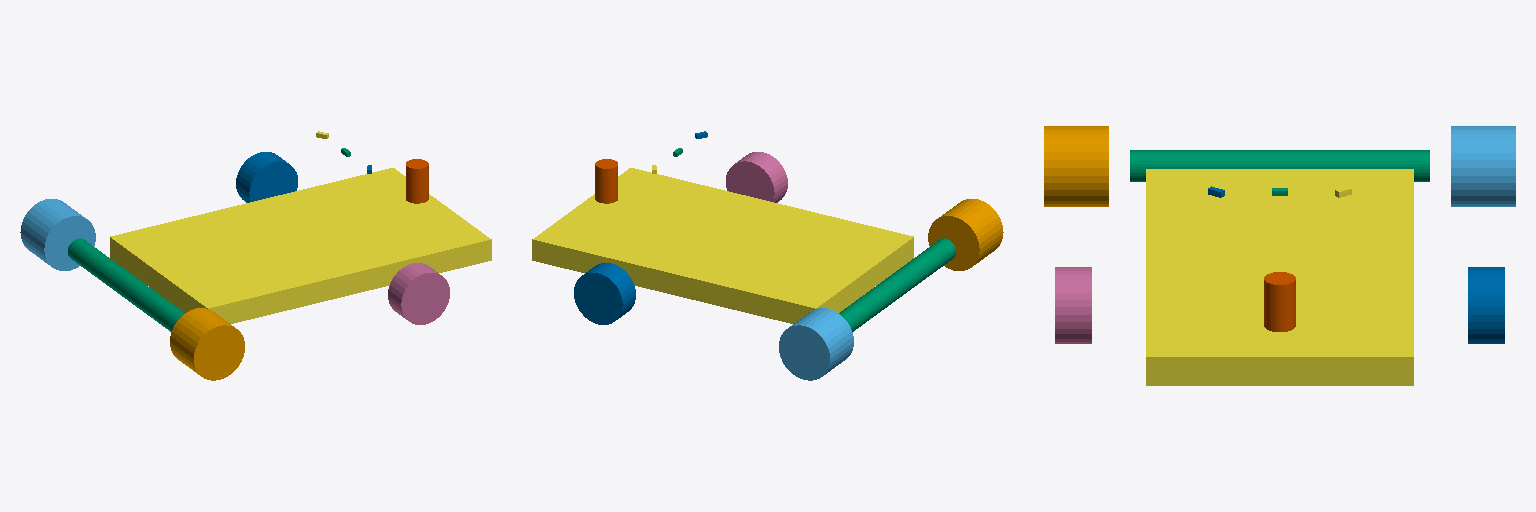
URDF robot description (phoenix):
<?xml version="1.0"?>
<robot name="phoenix">

<!-- Base footprint -->
    <link name="base_footprint"/>
    
<!--Rear Axle Link and Joint-->
    <link name="rear_axle">
        <visual>
            <origin rpy="0 0 0" xyz="0 0 0" />
            <geometry>
                <box size="0.001 0.001 0.001"/>
            </geometry>
        </visual>
        <inertial>
            <origin xyz="0 0 0" rpy="0 0 0"/>
            <mass value="0.001"/>
            <inertia
                ixx="7.6E-07" ixy="0.0" ixz="0.0"
                iyy="7.6E-07" iyz="0.0"
                izz="0.000001"/>
        </inertial>
    </link>

    <joint name="base_footprint_to_rear_axle" type="fixed">
        <origin rpy="0 0 0" xyz="0 0 0.127"/>
        <parent link="base_footprint"/>
        <child link="rear_axle"/>
    </joint>

    <link name="physical_rear_axle">
        <visual>
            <origin rpy="0 0 0" xyz="0 0 0" />
            <geometry>
                <cylinder length="0.9398" radius="0.050"/>
            </geometry>
        </visual>
        <inertial>
            <origin xyz="0 0 0" rpy="0 0 0"/>
            <mass value="10"/>
            <inertia
                ixx="0.74227005" ixy="0.0" ixz="0.0"
                iyy="0.74227005" iyz="0.0"
                izz="0.012500001"/>
        </inertial>
    </link>

    <joint name="rear_axle_to_physical_rear_axle" type="continuous">
        <origin rpy="1.5708 0 3.14159" xyz="0 0 0"/>
        <parent link="rear_axle"/>
        <child link="physical_rear_axle"/>
        <axis xyz="0 0 1"/>
    </joint>


<!--Chassis link and joint -->    
    <link name="base_link">
        <visual>
            <origin rpy="0 0 0" xyz="0 0 0" />
            <geometry>
                <box size="1.3967 0.8382 0.1"/>
            </geometry>
        </visual>
        <collision>
            <origin rpy="0 0 0" xyz="0 0 0" />
            <geometry>
                <box size="1.3967 0.8382 0.1"/>
            </geometry>
        </collision>
        <inertial>
            <origin xyz="0 0 0" rpy="0 0 0"/>
            <mass value="90"/>
            <inertia
                ixx="5.3443437" ixy="0.0" ixz="0.0"
                iyy="14.705783" iyz="0.0"
                izz="14.705781675"/>
        </inertial>
    </link>
    
    <joint name="rear_axle_to_base_link" type="fixed">
        <origin rpy="0 0 0" xyz="0.82535 0 0"/>
        <parent link="rear_axle"/>
        <child link="base_link"/>
    </joint>
    
    
<!-- Wheel links and joints -->
    
    <!-- Left wheel link and joint -->
    <link name="left_front_wheel">
        <visual>
            <origin rpy="1.5708 0 0" xyz="0 0 0" />
            <geometry>
                <cylinder length="0.1143" radius="0.12065"/>
            </geometry>
        </visual>
        <collision>
            <origin rpy="1.5708 0 0" xyz="0 0 0" />
            <geometry>
                <cylinder length="0.1143" radius="0.12065"/>
            </geometry>
        </collision>
        <inertial>
            <origin xyz="0 0 0" rpy="1.5708 0 0"/>
            <mass value="1.1"/>
            <inertia
                ixx="0.0052005947" ixy="0.0" ixz="0.0"
                iyy="0.0052005947" iyz="0.0"
                izz="0.008006033"/>
        </inertial>
    </link>

    <!-- The joint where the left wheel pivots about -->
    <link name="left_front_wheel_rack">
    <!-- These visuals are needed, else gazebo crashes -->
    <visual>
            <origin rpy="1.5708 0 0" xyz="0 0 0" />
            <geometry>
                <box size="0.001 0.001 0.001"/>
            </geometry>
        </visual>
        <inertial>
            <origin xyz="0 0 0" rpy="1.5708 0 0"/>
            <mass value="0.001"/>
            <inertia
                ixx="7.6E-07" ixy="0.0" ixz="0.0"
                iyy="7.6E-07" iyz="0.0"
                izz="0.000001"/>
        </inertial>
    </link>

    <joint name="left_front_wheel_steer" type="revolute">
        <origin rpy="0 0 0" xyz="1.03505 0.6477 0"/>
        <parent link="rear_axle"/>
        <child link="left_front_wheel_rack"/>
        <axis xyz="0 0 1"/>
        <limit lower="-0.3499" upper="+0.5236" velocity="3.141" effort="25"/>
    </joint>
    
    <joint name="left_front_wheel_rack_to_wheel" type="continuous">
        <origin rpy="0 0 0" xyz="0 -0.00001 0"/>
        <parent link="left_front_wheel_rack"/>
        <child link="left_front_wheel"/>
        <axis xyz="0 1 0"/>
    </joint>
    
    <!-- Right wheel link and joint -->
    <link name="right_front_wheel">
        <visual>
            <origin rpy="1.5708 0 0" xyz="0 0 0" />
            <geometry>
               <cylinder length="0.1143" radius="0.12065"/>
            </geometry>
        </visual>
        <collision>
            <origin rpy="1.5708 0 0" xyz="0 0 0" />
            <geometry>
                <cylinder length="0.1143" radius="0.12065"/>
            </geometry>
        </collision>
        <inertial>
            <origin xyz="0 0 0" rpy="1.5708 0 0"/>
            <mass value="1.1"/>
            <inertia
                ixx="0.0052005947" ixy="0.0" ixz="0.0"
                iyy="0.0052005947" iyz="0.0"
                izz="0.008006033"/>
        </inertial>
    </link>

    <!-- The joint where the right wheel pivots about -->
    <link name="right_front_wheel_rack">
    <!-- These visuals are needed, else gazebo crashes -->
    <visual>
        <origin rpy="1.5708 0 0" xyz="0 0 0" />
            <geometry>
                <box size="0.001 0.001 0.001"/>
            </geometry>
        </visual>
        <inertial>
            <origin xyz="0 0 0" rpy="1.5708 0 0"/>
            <mass value="0.001"/>
            <inertia
                ixx="7.6E-07" ixy="0.0" ixz="0.0"
                iyy="7.6E-07" iyz="0.0"
                izz="0.000001"/>
        </inertial>
    </link>
    
    <joint name="right_front_wheel_steer" type="revolute">
        <origin rpy="0 0 0" xyz="1.03505 -0.6477 0"/>
        <parent link="rear_axle"/>
        <child link="right_front_wheel_rack"/>
        <axis xyz="0 0 1"/>
        <limit lower="-0.3499" upper="+0.5236" velocity="3.141" effort="25"/>
    </joint> 
    
    <joint name="right_front_wheel_rack_to_wheel" type="continuous">
        <origin rpy="0 0 0" xyz="0 -0.00001 0"/>
        <parent link="right_front_wheel_rack"/>
        <child link="right_front_wheel"/>
        <axis xyz="0 1 0"/>
    </joint> 

    <!--Rear Wheels -->
    <link name="left_rear_wheel">
        <visual>
            <origin rpy="0 0 0" xyz="0 0 0" />
            <geometry>
                <cylinder length="0.2032" radius="0.127"/>
            </geometry>
        </visual>
        <collision>
            <origin rpy="0 0 0" xyz="0 0 0" />
            <geometry>
                <cylinder length="0.2032" radius="0.127"/>
            </geometry>
        </collision>
        <inertia>
            <origin xyz="0 0 0" rpy="1.5708 0 0"/>
            <mass value="1.5"/>
            <inertia
                ixx="0.011209655" ixy="0.0" ixz="0.0"
                iyy="0.011209655" iyz="0.0"
                izz="0.01209675"/>
        </inertia>
    </link>

    <joint name="left_rear_wheel_to_physical_rear_axle" type="fixed">
        <origin rpy="0 0 0" xyz="0 0 -0.6371"/>
        <parent link="physical_rear_axle"/>
        <child link="left_rear_wheel"/>
    </joint>

    <link name="right_rear_wheel">
        <visual>
            <origin rpy="0 0 0" xyz="0 0 0" />
            <geometry>
                <cylinder length="0.2032" radius="0.127"/>
            </geometry>
        </visual>
        <collision>
            <origin rpy="0 0 0" xyz="0 0 0" />
            <geometry>
                <cylinder length="0.2032" radius="0.127"/>
            </geometry>
        </collision>
        <inertia>
            <origin xyz="0 0 0" rpy="1.5708 0 0"/>
            <mass value="1.5"/>
            <inertia
                ixx="0.011209655" ixy="0.0" ixz="0.0"
                iyy="0.011209655" iyz="0.0"
                izz="0.01209675"/>
        </inertia>
    </link>

    <joint name="right_rear_wheel_to_physical_rear_axle" type="fixed">
        <origin rpy="0 0 0" xyz="0 0 0.6371"/>
        <parent link="physical_rear_axle"/>
        <child link="right_rear_wheel"/>
    </joint>
    
<!-- Sensors -->

<link name="mid_cam_link">
    <visual>
        <origin rpy="0 0 0" xyz="0 0 0" />
        <geometry>
            <box size="0.02 0.05 0.02"/>
        </geometry>
    </visual>
    <collision>
        <origin rpy="0 0 0" xyz="0 0 0" />
        <geometry>
            <box size="0.02 0.05 0.02"/>
        </geometry>
    </collision>
    <inertial>
        <origin xyz="0 0 0" rpy="0 0 0"/>
        <mass value="0.1"/>
        <inertia
            ixx="0.000315771" ixy="0.0" ixz="0.0"
            iyy="0.00266963" iyz="0.0"
            izz="0.0"/>
    </inertial>
</link>
<joint name="mid_cam_to_rear_axle" type="fixed">
    <origin rpy="0 0 0" xyz="1.05 0 0.4"/>
    <parent link="rear_axle"/>
    <child link="mid_cam_link"/>
</joint>

<link name="left_cam_link">
    <visual>
        <origin rpy="0 0 0" xyz="0 0 0" />
        <geometry>
            <box size="0.02 0.05 0.02"/>
        </geometry>
    </visual>
    <collision>
        <origin rpy="0 0 0" xyz="0 0 0" />
        <geometry>
            <box size="0.02 0.05 0.02"/>
        </geometry>
    </collision>
    <inertial>
        <origin xyz="0 0 0" rpy="0 0 0"/>
        <mass value="0.1"/>
        <inertia
            ixx="0.000315771" ixy="0.0" ixz="0.0"
            iyy="0.00266963" iyz="0.0"
            izz="0.0"/>
    </inertial>
</link>
<joint name="left_cam_to_mid_cam" type="fixed">
    <origin rpy="0 0 0.585398" xyz="0 0.2 0"/>
    <parent link="mid_cam_link"/>
    <child link="left_cam_link"/>
</joint>

<link name="right_cam_link">
    <visual>
        <origin rpy="0 0 0" xyz="0 0 0" />
        <geometry>
            <box size="0.02 0.05 0.02"/>
        </geometry>
    </visual>
    <collision>
        <origin rpy="0 0 0" xyz="0 0 0" />
        <geometry>
            <box size="0.02 0.05 0.02"/>
        </geometry>
    </collision>
    <inertial>
        <origin xyz="0 0 0" rpy="0 0 0"/>
        <mass value="0.1"/>
        <inertia
            ixx="0.000315771" ixy="0.0" ixz="0.0"
            iyy="0.00266963" iyz="0.0"
            izz="0.0"/>
    </inertial>
</link>
<joint name="right_cam_to_mid_cam" type="fixed">
    <origin rpy="0 0 -0.585398" xyz="0 -0.2 0"/>
    <parent link="mid_cam_link"/>
    <child link="right_cam_link"/>
</joint>

    <!-- TODO finalize location -->
    <link name="lidar_link">
        <visual>
            <origin rpy="0 0 0" xyz="0 0 -0.0671" />
            <geometry>
                <cylinder length="0.1636" radius="0.0498"/>
            </geometry>
        </visual>
        <collision>
            <origin rpy="0 0 0" xyz="0 0 -0.0671" />
            <geometry>
                <cylinder length="0.1636" radius="0.0498"/>
            </geometry>
        </collision>
        <inertial>
            <origin xyz="0 0 0" rpy="0 0 0"/>
            <mass value="2.2"/>
            <inertia
                    ixx="0.000315771" ixy="0.0" ixz="0.0"
                    iyy="0.00266963" iyz="0.0"
                    izz="0.0"/>
        </inertial>
    </link>

    <joint name="lidar_to_rear_axel" type="fixed">
        <origin rpy="0 0 0" xyz="1.4 0 0.25"/>
        <parent link="rear_axle"/>
        <child link="lidar_link"/>
    </joint>

<!-- Gazebo Plugins -->
    
  <gazebo>
      <plugin filename="gz-sim-imu-system"
              name="gz::sim::systems::Imu">
      </plugin>

    <plugin filename="gz-sim-ackermann-steering-system"
    name="gz::sim::systems::AckermannSteering">
      <left_steering_joint>left_front_wheel_steer</left_steering_joint>
      <right_steering_joint>right_front_wheel_steer</right_steering_joint>
        <left_joint>rear_axle_to_physical_rear_axle</left_joint>
        <right_joint>rear_axle_to_physical_rear_axle</right_joint>

        <min_velocity>-13</min_velocity>
        <max_velocity>13</max_velocity>
        <min_acceleration>-3</min_acceleration>
        <max_acceleration>4</max_acceleration>

        <wheel_separation>0.94</wheel_separation>
      <wheel_radius>0.12065</wheel_radius>
      <wheel_base>1.08</wheel_base>
        <odom_publish_frequency>20</odom_publish_frequency>
    </plugin>
  </gazebo>
  
    <gazebo reference="mid_cam_link">
        <sensor name="mid_cam_link" type="rgbd_camera">
          <camera>
            <horizontal_fov>1.65806</horizontal_fov>
            <image>
              <width>640</width>
              <height>360</height>
            </image>
            <clip>
              <near>0.1</near>
              <far>100</far>
            </clip>
              <depth_camera>
                  <clip>
                      <near>0.6</near>
                      <far>10</far>
                  </clip>
              </depth_camera>
          </camera>
          <always_on>1</always_on>
          <update_rate>30</update_rate>
          <visualize>true</visualize>
          <topic>mid_rgbd_camera</topic>
          <enable_metrics>true</enable_metrics>
            <gz_frame_id>mid_cam_link</gz_frame_id>
        </sensor>
  </gazebo>

  <!-- Simulate OAK-D IMU -->
  <gazebo reference="mid_cam_link">
      <sensor name="imu_sensor" type="imu">
          <always_on>1</always_on>
          <update_rate>60</update_rate>
          <visualize>false</visualize>
          <topic>mid_rgbd_camera_imu</topic>
          <gz_frame_id>mid_cam_link</gz_frame_id>
<!--          <imu>-->
<!--              <angular_velocity>-->
<!--                  <x>-->
<!--                      <noise type="gaussian">-->
<!--                          <mean>0.0</mean>-->
<!--                          <stddev>0.1</stddev>-->
<!--                      </noise>-->
<!--                  </x>-->
<!--                  <y>-->
<!--                      <noise type="gaussian">-->
<!--                          <mean>0.0</mean>-->
<!--                          <stddev>0.1</stddev>-->
<!--                      </noise>-->
<!--                  </y>-->
<!--                  <z>-->
<!--                      <noise type="gaussian">-->
<!--                          <mean>0.0</mean>-->
<!--                          <stddev>0.1</stddev>-->
<!--                      </noise>-->
<!--                  </z>-->
<!--              </angular_velocity>-->
<!--              <linear_acceleration>-->
<!--                  <x>-->
<!--                      <noise type="gaussian">-->
<!--                          <mean>0.0</mean>-->
<!--                          <stddev>0.1</stddev>-->
<!--                      </noise>-->
<!--                  </x>-->
<!--                  <y>-->
<!--                      <noise type="gaussian">-->
<!--                          <mean>0.0</mean>-->
<!--                          <stddev>0.1</stddev>-->
<!--                      </noise>-->
<!--                  </y>-->
<!--                  <z>-->
<!--                      <noise type="gaussian">-->
<!--                          <mean>0.0</mean>-->
<!--                          <stddev>0.1</stddev>-->
<!--                      </noise>-->
<!--                  </z>-->
<!--              </linear_acceleration>-->
<!--          </imu>-->
      </sensor>
  </gazebo>

    <!-- Webots Plugins NOTE: These must be all in one webots tag -->
    <webots>
        <!-- Camera Mid -->
        <device reference="mid_camera" type="Camera">
            <ros>
                <frameName>mid_cam_link</frameName>
                <topicName>/camera/mid/rgb</topicName>
                <updateRate>30</updateRate>
                <alwaysOn>true</alwaysOn>
            </ros>
        </device>

        <!-- Depth camera Mid -->
        <device reference="mid_camera_depth" type="RangeFinder">
            <ros>
                <frameName>left_cam_link</frameName>
                <topicName>/camera/mid/depth</topicName>
                <updateRate>30</updateRate>
                <alwaysOn>true</alwaysOn>
            </ros>
        </device>

        <!-- IMU Mid -->
        <plugin type="webots_ros2_driver::Ros2IMU">
            <topicName>/camera/mid/imu</topicName>
            <frameName>mid_cam_link</frameName>
            <alwaysOn>true</alwaysOn>

            <!-- Indicates the name of the inertial unit device. -->
            <inertialUnitName>mid_camera_inert</inertialUnitName>
            <!-- Indicates the name of the gyro device. -->
            <gyroName>mid_camera_gyro</gyroName>
            <!-- Indicates the name of the accelerometer device. -->
            <accelerometerName>mid_camera_accel</accelerometerName>
        </plugin>

        <!-- Lidar -->
        <device reference="Sick S300" type="Lidar">
            <ros>
                <frameName>lidar_link</frameName>
                <topicName>/scan</topicName>
                <updateRate>20</updateRate>
                <alwaysOn>true</alwaysOn>
            </ros>
        </device>

        <!-- Custom driver for odom and actuation-->
        <plugin type="wb_io_ros::WbIoRos" />
    </webots>
</robot>
            

--- What the picture shows (computed from the rendered views, not written in the file) ---
3 views of the same robot in one strip: view 1: azimuth 30°, elevation 25°; view 2: azimuth 150°, elevation 25°; view 3: azimuth 270°, elevation 25° (orthographic).
Robot: phoenix — 14 links, 13 joints (2 revolute, 3 continuous, 8 fixed); root link base_footprint; default pose: every joint at zero.
Visible links, largest first — view 1: base_link, left_rear_wheel, right_rear_wheel, physical_rear_axle, right_front_wheel, left_front_wheel, lidar_link; view 2: base_link, right_rear_wheel, left_rear_wheel, physical_rear_axle, left_front_wheel, right_front_wheel, lidar_link; view 3: base_link, physical_rear_axle, left_rear_wheel, right_rear_wheel, left_front_wheel, right_front_wheel, lidar_link.
Boxes of the visible links, <box> form: base_link: <box>110,168,491,323</box>; left_rear_wheel: <box>170,308,244,380</box>; right_rear_wheel: <box>20,199,95,270</box>; physical_rear_axle: <box>68,238,184,331</box>; right_front_wheel: <box>388,263,449,324</box>; left_front_wheel: <box>236,152,297,202</box>; lidar_link: <box>406,159,428,203</box>; base_link: <box>532,168,913,323</box>; right_rear_wheel: <box>779,308,853,380</box>; left_rear_wheel: <box>928,199,1003,270</box>; physical_rear_axle: <box>839,238,955,331</box>; left_front_wheel: <box>574,263,635,324</box>; right_front_wheel: <box>726,152,787,202</box>; lidar_link: <box>595,159,617,203</box>; base_link: <box>1146,169,1413,385</box>; physical_rear_axle: <box>1130,150,1429,181</box>; left_rear_wheel: <box>1044,126,1108,206</box>; right_rear_wheel: <box>1451,126,1515,206</box>; left_front_wheel: <box>1468,267,1504,343</box>; right_front_wheel: <box>1055,267,1091,343</box>; lidar_link: <box>1264,272,1295,331</box>.
Bounding box of the posed robot: 1.65 × 1.48 × 0.537 m (x, y, z).
Geometry: primitives only (box / cylinder / sphere), no mesh files.